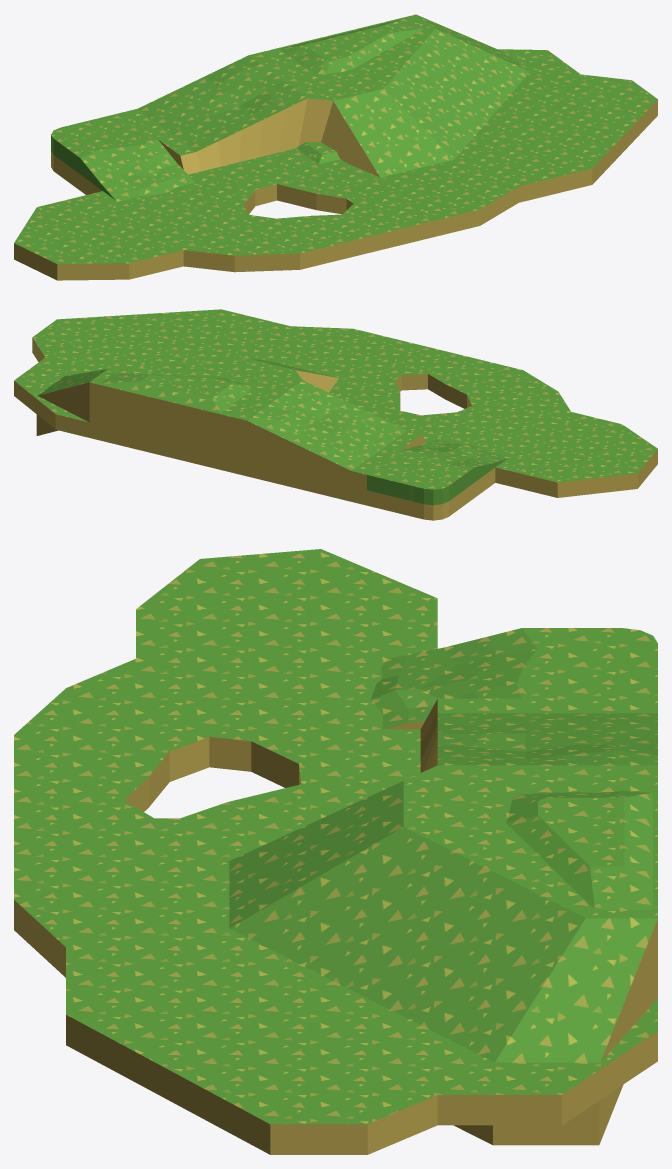
File: SOS_island_prototype_03.fbx
3 views of the same model, one above another, from view 1: azimuth 30°, elevation 25°; view 2: azimuth 150°, elevation 25°; view 3: azimuth 270°, elevation 25° (orthographic). The views are drawn at different scales.
Parts seen in each view (by area): view 1: SOS_island_prototype_02; view 2: SOS_island_prototype_02; view 3: SOS_island_prototype_02.
Boxes of the visible parts, box(x1,y1,x2,y2) form: SOS_island_prototype_02: box(14, 14, 657, 280); SOS_island_prototype_02: box(14, 309, 657, 520); SOS_island_prototype_02: box(14, 549, 657, 1154).
Size of the model in its own units: 8063 by 1125 by 3814.
